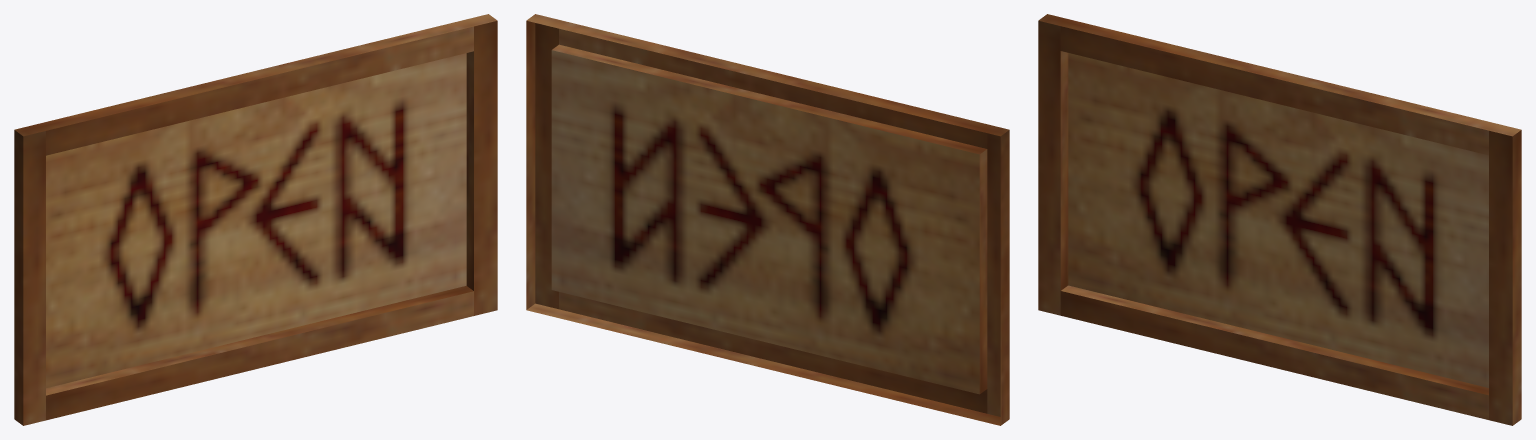
The model's file is MS_Sign_Open.fbx.
The picture shows the model from 3 angles, left to right: view 1: azimuth 30°, elevation 25°; view 2: azimuth 150°, elevation 25°; view 3: azimuth 330°, elevation 25°; orthographic projection.
Visible parts, largest first — view 1: MSH_Sign_Neon_Open; view 2: MSH_Sign_Neon_Open; view 3: MSH_Sign_Neon_Open.
Boxes of the visible parts, left/top/right/bottom form: MSH_Sign_Neon_Open: left=14, top=14, right=497, bottom=425; MSH_Sign_Neon_Open: left=526, top=14, right=1009, bottom=425; MSH_Sign_Neon_Open: left=1038, top=14, right=1521, bottom=425.
Size of the model in its own units: 60 by 35 by 2.
